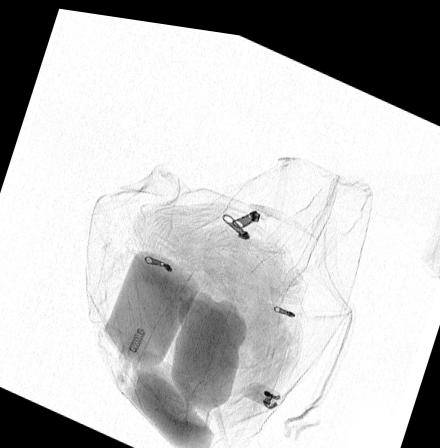Lighter: (239, 371, 281, 401)
